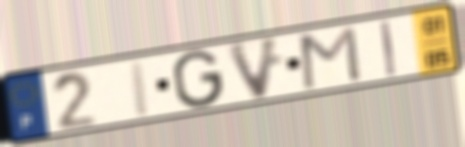2: (50, 69, 102, 132)
G: (171, 48, 226, 111)
I: (127, 57, 154, 121), (377, 18, 399, 79)
M: (298, 23, 365, 93)
V: (223, 33, 284, 103)
